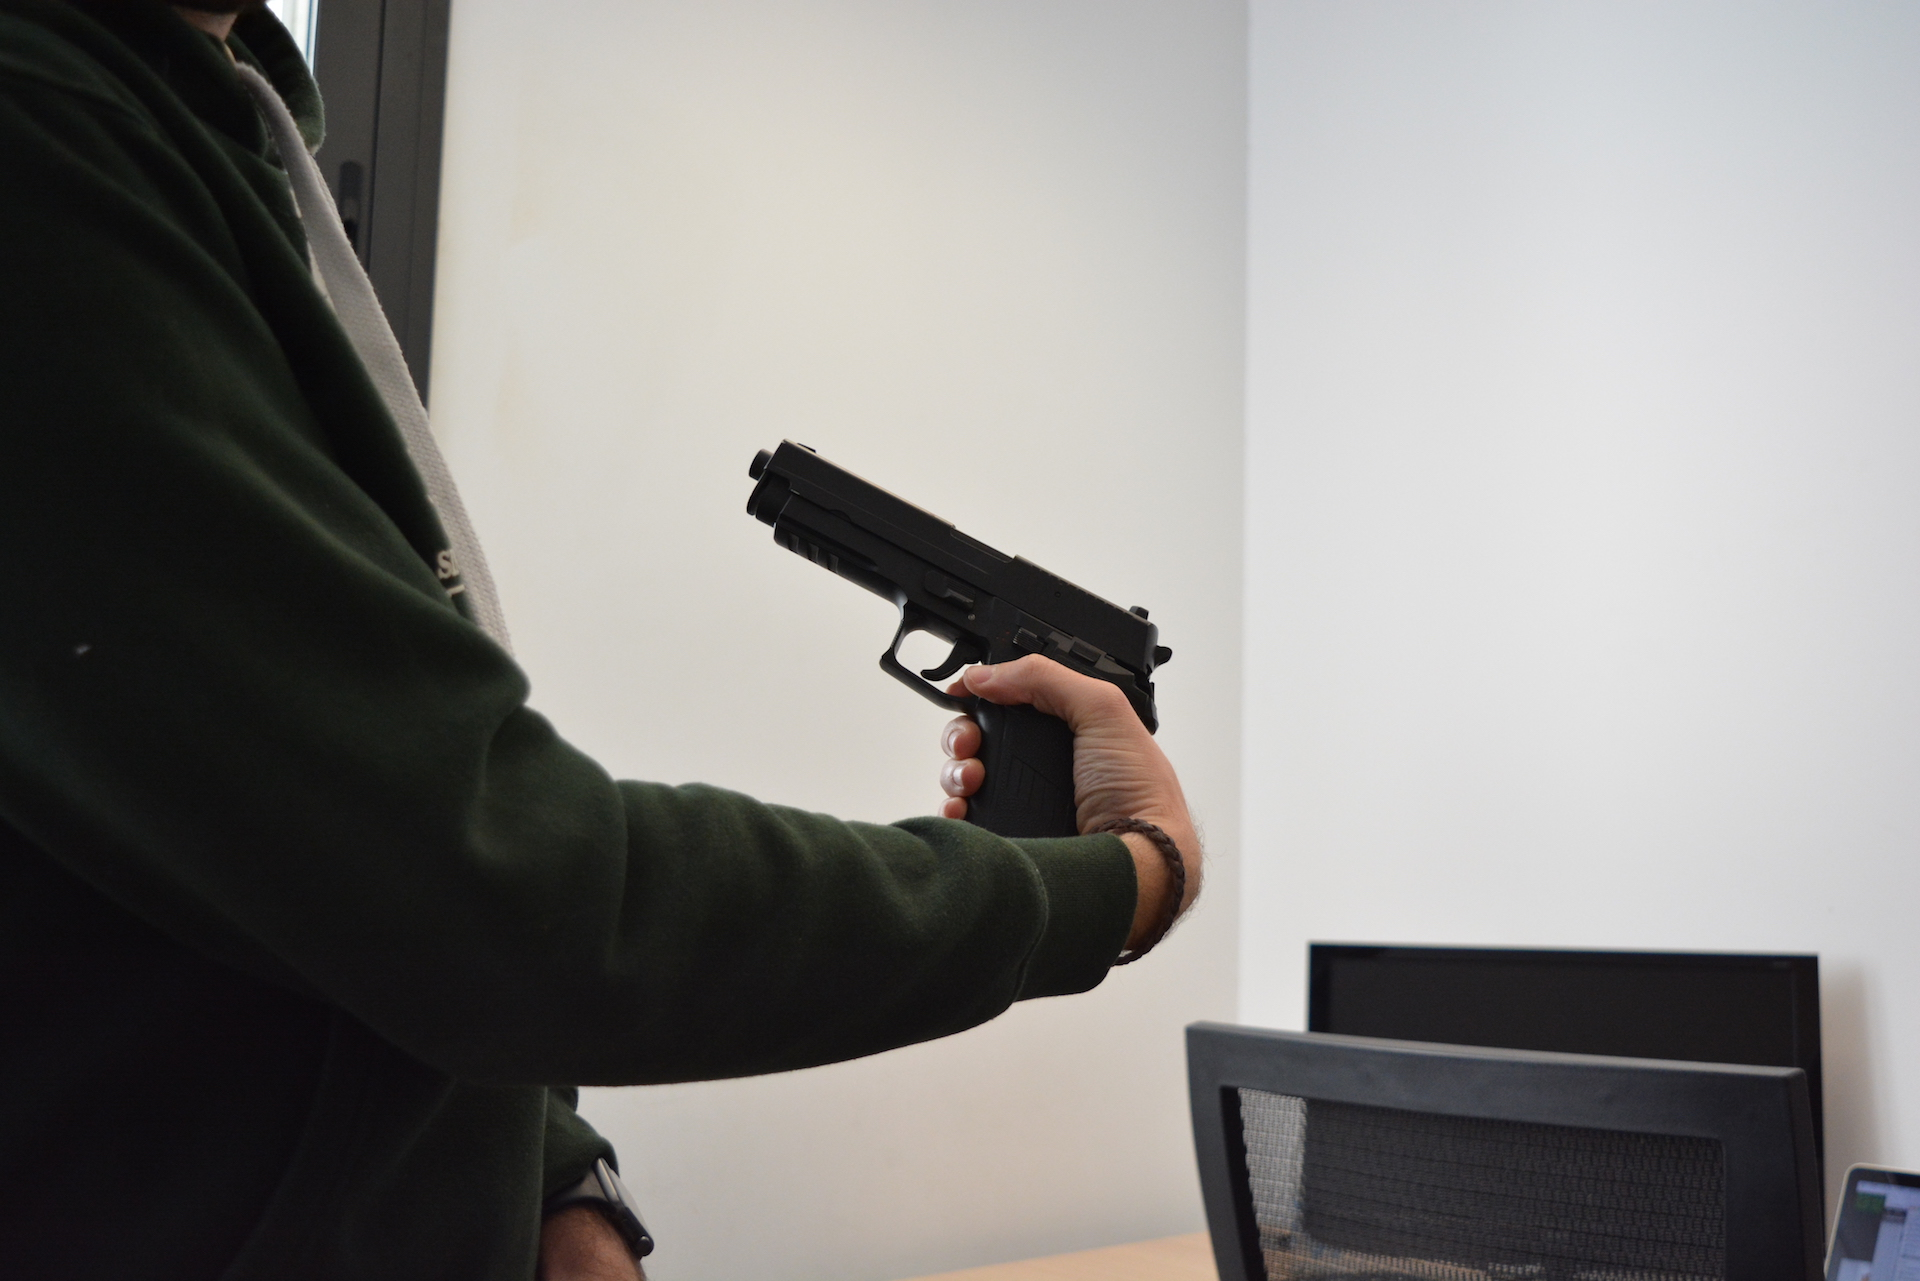pistol: (741, 432, 1179, 842)
